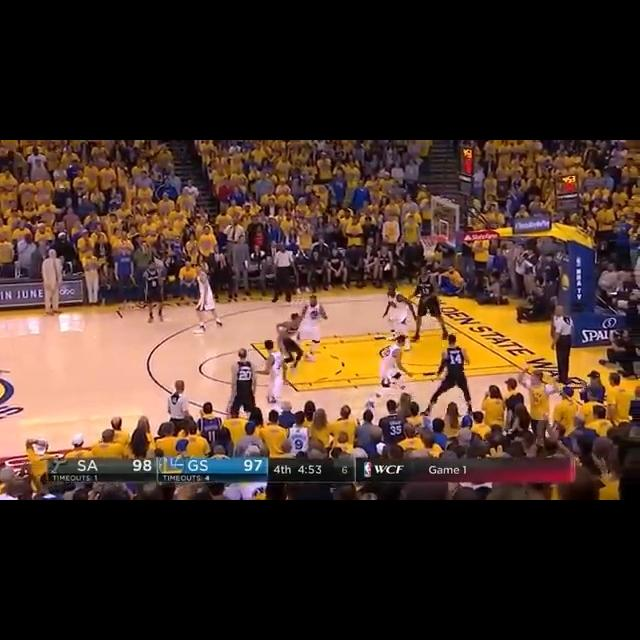hoop: (420, 236, 439, 257)
